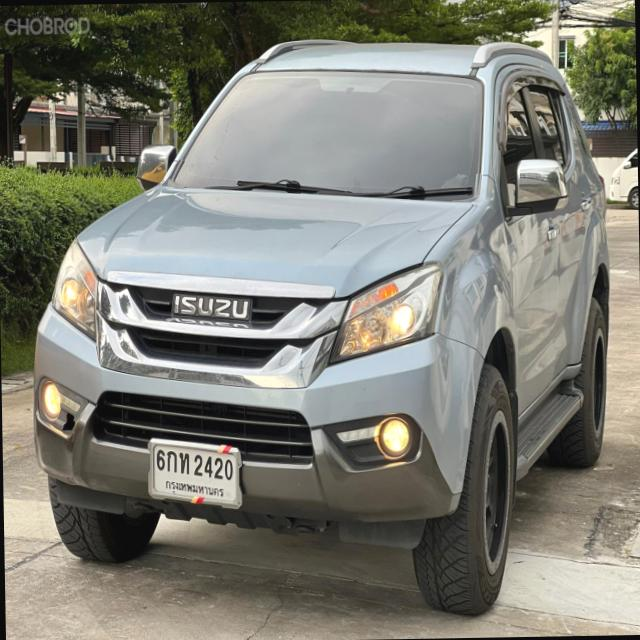license_plate: (146, 432, 243, 513)
